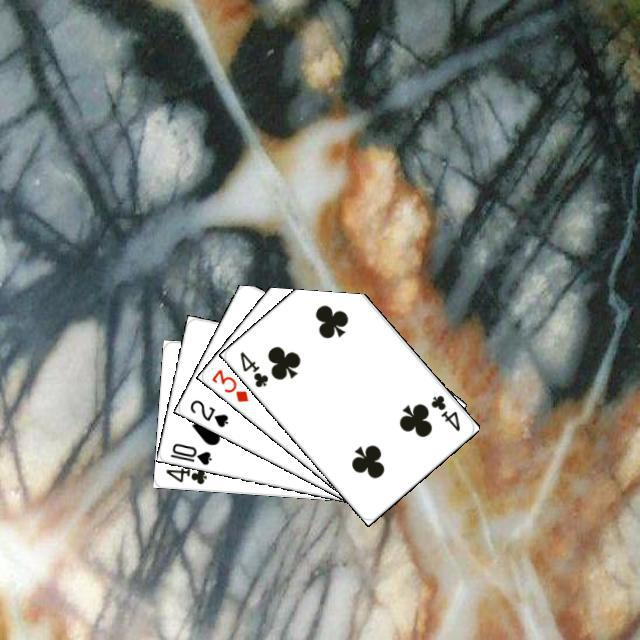10s: (165, 438, 213, 467)
2s: (185, 395, 230, 429)
3d: (207, 364, 250, 404)
4c: (426, 390, 462, 433), (235, 346, 270, 389), (161, 463, 209, 486)
